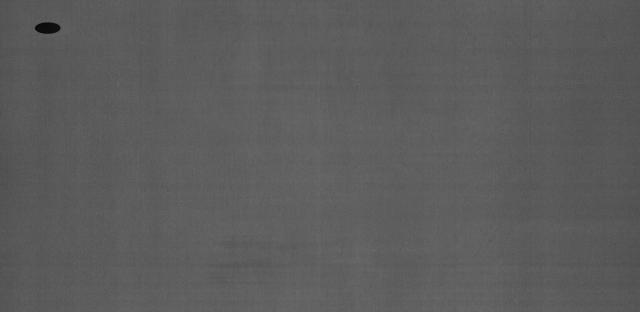punching_hole: (31, 18, 65, 39)
